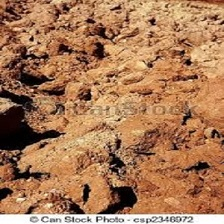clay_soil: (14, 15, 216, 197)
